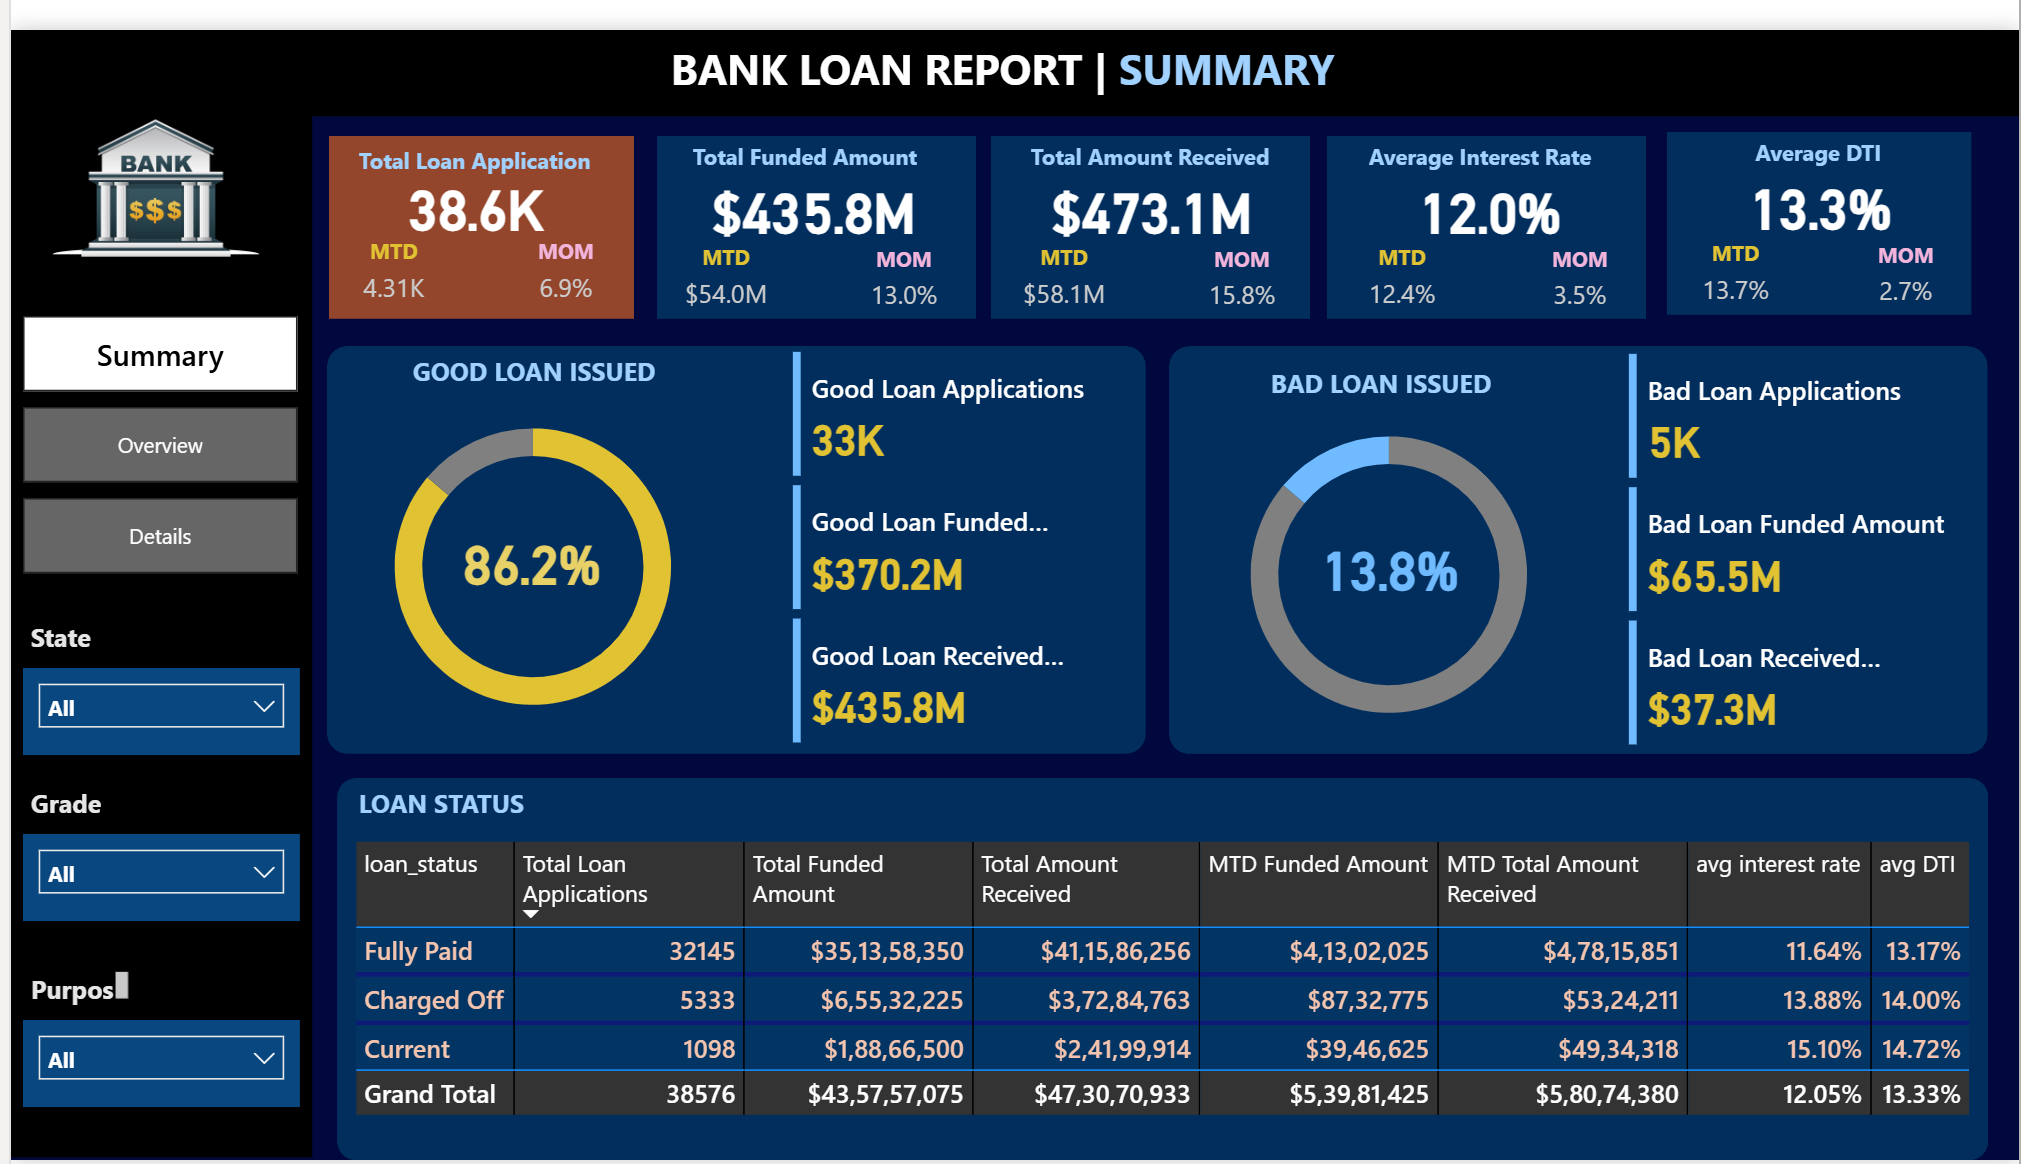

Layout of this report page (visuals, bound fields, positions):
{"tool":"powerbi","page":{"name":" Summary","canvas":[1280,720],"ordinal":0},"visuals":[{"type":"shape","box":[1054.6,66.1,194.2,116.6],"z":0,"group":"g5"},{"type":"shape","box":[202.1,67.3,194.4,116.6],"z":0,"group":"g1"},{"type":"shape","box":[411.3,67.3,203.4,116.6],"z":0,"group":"g2"},{"type":"shape","box":[839.9,67.3,203.4,116.6],"z":0,"group":"g4"},{"type":"shape","box":[624.4,67.6,203.4,116.6],"z":0,"group":"g3"},{"type":"shape","box":[201.9,201.9,522,260],"z":0},{"type":"shape","box":[0,0,1280,55],"z":1000},{"type":"card","fields":{"Values":["bank_loan_data.Total Loan Applications"]},"box":[162.6,81.1,266.2,61.3],"z":1000,"group":"g1"},{"type":"card","fields":{"Values":["bank_loan_data.avg dti"]},"box":[1025.8,82.1,254.2,59.8],"z":1000,"group":"g5"},{"type":"card","fields":{"Values":["bank_loan_data.Total Funded Amount"]},"box":[378.4,83.6,266.2,59.8],"z":1000,"group":"g2"},{"type":"card","fields":{"Values":["bank_loan_data.Total Amount Received"]},"box":[594.2,83.6,266.2,59.8],"z":1000,"group":"g3"},{"type":"card","fields":{"Values":["bank_loan_data.avg interest rate"]},"box":[810,83.6,266.2,59.8],"z":1000,"group":"g4"},{"type":"shape","box":[0,55.3,192,663.9],"z":2000},{"type":"textbox","box":[1074.9,64.3,161.4,48.1],"z":2000,"group":"g5"},{"type":"textbox","box":[429.8,65.8,169,48.1],"z":2000,"group":"g2"},{"type":"textbox","box":[645.6,65.8,169,48.1],"z":2000,"group":"g3"},{"type":"textbox","box":[861.4,65.8,169,48.1],"z":2000,"group":"g4"},{"type":"textbox","box":[215.5,68.8,177.9,52.3],"z":2000,"group":"g1"},{"type":"card","title":"MTD","fields":{"Values":["bank_loan_data.MTD Loan Applications"]},"box":[214,131.6,59.8,52.3],"z":3000,"group":"g1"},{"type":"card","title":"MTD","fields":{"Values":["bank_loan_data.MTD avg dti"]},"box":[1065.8,133.1,67.1,52.3],"z":3000,"group":"g5"},{"type":"card","title":"MTD","fields":{"Values":["bank_loan_data.MTD Funded Amount"]},"box":[420.3,134.6,70.3,52.3],"z":3000,"group":"g2"},{"type":"card","title":"MTD","fields":{"Values":["bank_loan_data.MTD Total Amount Received"]},"box":[636.1,134.6,70.3,52.3],"z":3000,"group":"g3"},{"type":"card","title":"MTD","fields":{"Values":["bank_loan_data.MTD avg interest rate"]},"box":[851.9,134.6,70.3,52.3],"z":3000,"group":"g4"},{"type":"textbox","box":[251.2,201.9,177.9,35.9],"z":3000},{"type":"card","title":"MOM","fields":{"Values":["bank_loan_data.MOM Loan Applications"]},"box":[323.2,131.6,59.8,52.3],"z":4000,"group":"g1"},{"type":"card","title":"MOM","fields":{"Values":["bank_loan_data.MOM avg dti"]},"box":[1178.6,134.6,57.1,50.8],"z":4000,"group":"g5"},{"type":"card","title":"MOM","fields":{"Values":["bank_loan_data.MOM Funded Amount"]},"box":[538.4,136.1,59.8,50.8],"z":4000,"group":"g2"},{"type":"card","title":"MOM","fields":{"Values":["bank_loan_data.MOM received amount"]},"box":[754.2,136.1,59.8,50.8],"z":4000,"group":"g3"},{"type":"card","title":"MOM","fields":{"Values":["bank_loan_data.MOM avg interest rate"]},"box":[970,136.1,59.8,50.8],"z":4000,"group":"g4"},{"type":"card","fields":{"Values":["bank_loan_data.good loan percentage"]},"box":[276.6,308,110.7,59.8],"z":4000},{"type":"textbox","box":[415.7,1.5,448.6,53.8],"z":5000},{"type":"group","id":"g1","title":"Group 1","box":[162.6,67.3,266.2,116.6],"z":6000},{"type":"group","id":"g2","title":"Group 1","box":[378.4,65.8,266.2,121.1],"z":7000},{"type":"group","id":"g3","title":"Group 1","box":[594.2,65.8,266.2,121.1],"z":8000},{"type":"group","id":"g4","title":"Group 1","box":[810,65.8,266.2,121.1],"z":9000},{"type":"donutChart","fields":{"Category":["bank_loan_data.Good vs Bad Loan"],"Y":["bank_loan_data.Total Loan Applications"]},"box":[207.9,227.3,249.7,230.3],"z":10000},{"type":"group","id":"g5","title":"Group 1","box":[1025.8,64.3,254.2,121.1],"z":11000},{"type":"shape","box":[738.7,201.9,521.9,260.2],"z":12000},{"type":"cardVisual","fields":{"Data":["bank_loan_data.good loan applications","bank_loan_data.good loan funded amount","bank_loan_data.good loan received amount"]},"box":[493.5,200.4,230.3,261.7],"z":13000},{"type":"donutChart","fields":{"Category":["bank_loan_data.Good vs Bad Loan"],"Y":["bank_loan_data.Total Loan Applications"]},"box":[753.6,231.8,249.7,230.3],"z":14000},{"type":"textbox","box":[798.5,209.3,177.9,35.9],"z":15000},{"type":"card","fields":{"Values":["bank_loan_data.bad loan percentage"]},"box":[823.9,312.5,110.7,59.8],"z":16000},{"type":"cardVisual","fields":{"Data":["bank_loan_data.bad loan applications","bank_loan_data.bad loan funded amount","bank_loan_data.bad loan received amount"]},"box":[1025.8,201.9,230.3,261.7],"z":17000},{"type":"shape","box":[207.9,477,1052.7,243.7],"z":18000},{"type":"tableEx","fields":{"Values":["bank_loan_data.loan_status","bank_loan_data.Total Loan Applications","bank_loan_data.Total Funded Amount","bank_loan_data.Total Amount Received","bank_loan_data.MTD Funded Amount","bank_loan_data.MTD Total Amount Received","bank_loan_data.avg interest rate","bank_loan_data.avg dti"]},"box":[214.6,512.3,1045,195.4],"z":19000},{"type":"textbox","box":[217.2,476.5,178.8,35.8],"z":20000},{"type":"slicer","fields":{"Values":["bank_loan_data.address_state"]},"box":[7.5,406.7,176.4,55.3],"z":21000},{"type":"textbox","box":[7.5,370.8,71.8,35.9],"z":22000},{"type":"slicer","fields":{"Values":["bank_loan_data.grade"]},"box":[7.5,512.9,176.4,55.3],"z":23000},{"type":"textbox","box":[7.5,477,71.8,35.9],"z":24000},{"type":"slicer","fields":{"Values":["bank_loan_data.purpose"]},"box":[7.5,631,176.4,55.3],"z":25000},{"type":"textbox","box":[7.5,595.1,71.8,35.9],"z":26000},{"type":"image","box":[21.7,14,141.5,173.4],"z":27000},{"type":"pageNavigator","box":[7.6,182.3,175.9,164.5],"z":28000}]}

Visuals, with their boxes in screenshot pixels (x1, y1, x2, y2), scaled from the page's 1280x720 canvas onto the 2024x1164 screenshot:
shape: 1668 107 1975 295
shape: 320 109 627 297
shape: 650 109 972 297
shape: 1328 109 1650 297
shape: 987 109 1309 298
shape: 319 326 1145 747
shape: 0 0 2023 89
card - bank_loan_data.Total Loan Applications: 257 131 678 230
card - bank_loan_data.avg dti: 1622 133 2023 229
card - bank_loan_data.Total Funded Amount: 598 135 1019 232
card - bank_loan_data.Total Amount Received: 940 135 1361 232
card - bank_loan_data.avg interest rate: 1281 135 1702 232
shape: 0 89 304 1163
textbox: 1700 104 1955 182
textbox: 680 106 947 184
textbox: 1021 106 1288 184
textbox: 1362 106 1629 184
textbox: 341 111 622 196
"MTD" card: 338 213 433 297
"MTD" card: 1685 215 1791 300
"MTD" card: 665 218 776 302
"MTD" card: 1006 218 1117 302
"MTD" card: 1347 218 1458 302
textbox: 397 326 679 384
"MOM" card: 511 213 606 297
"MOM" card: 1864 218 1954 300
"MOM" card: 851 220 946 302
"MOM" card: 1193 220 1287 302
"MOM" card: 1534 220 1628 302
card - bank_loan_data.good loan percentage: 437 498 612 595
textbox: 657 2 1367 89
"Group 1" group: 257 109 678 297
"Group 1" group: 598 106 1019 302
"Group 1" group: 940 106 1361 302
"Group 1" group: 1281 106 1702 302
donutChart - bank_loan_data.Good vs Bad Loan x bank_loan_data.Total Loan Applications: 329 367 724 740
"Group 1" group: 1622 104 2023 300
shape: 1168 326 1993 747
cardVisual - bank_loan_data.good loan applications x bank_loan_data.good loan funded amount: 780 324 1145 747
donutChart - bank_loan_data.Good vs Bad Loan x bank_loan_data.Total Loan Applications: 1192 375 1586 747
textbox: 1263 338 1544 396
card - bank_loan_data.bad loan percentage: 1303 505 1478 602
cardVisual - bank_loan_data.bad loan applications x bank_loan_data.bad loan funded amount: 1622 326 1986 749
shape: 329 771 1993 1163
tableEx - bank_loan_data.loan_status x bank_loan_data.Total Loan Applications: 339 828 1992 1144
textbox: 343 770 626 828
slicer - bank_loan_data.address_state: 12 657 291 747
textbox: 12 599 125 657
slicer - bank_loan_data.grade: 12 829 291 919
textbox: 12 771 125 829
slicer - bank_loan_data.purpose: 12 1020 291 1110
textbox: 12 962 125 1020
image: 34 23 258 303
pageNavigator: 12 295 290 561
